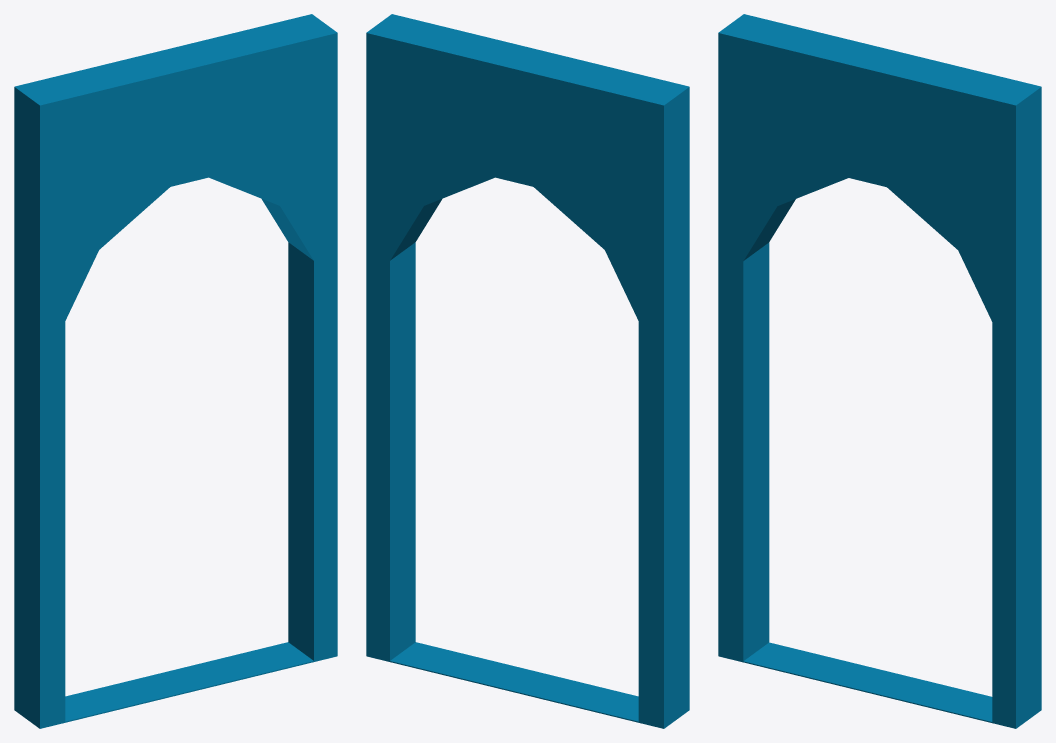
Rendered from BlueDoorframe.glb.
3 renders of one model, left to right at view 1: azimuth 30°, elevation 25°; view 2: azimuth 150°, elevation 25°; view 3: azimuth 330°, elevation 25°, orthographic.
Parts seen in each view (by area): view 1: wall_blue_door; view 2: wall_blue_door; view 3: wall_blue_door.
Part boxes in pixels (<box>): wall_blue_door: <box>14,14,337,728</box>; wall_blue_door: <box>366,14,689,728</box>; wall_blue_door: <box>718,14,1041,728</box>.
Size of what is drawn, in the model's own units: 2 by 4 by 0.3.
Materials: 1 (1 with a texture image).
